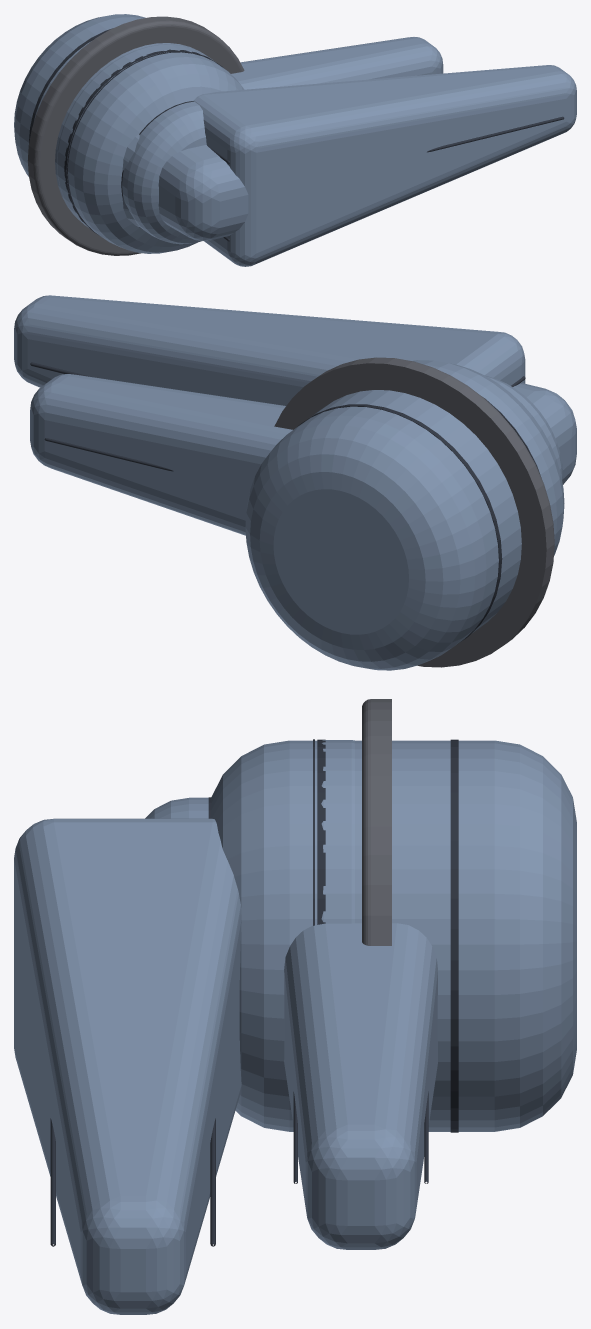
Rendered from arm.glb.
3 views of the same model, one above another, from view 1: azimuth 30°, elevation 25°; view 2: azimuth 150°, elevation 25°; view 3: azimuth 270°, elevation 25° (orthographic). The views are drawn at different scales.
Parts seen in each view (by area): view 1: b3, b1, b2, b4; view 2: b3, b4, b1, b2; view 3: b3, b4, b1, b2.
Boxes of the visible parts, bbox=[...] form: b3: bbox=[14, 14, 576, 266]; b1: bbox=[27, 16, 244, 255]; b2: bbox=[121, 101, 248, 244]; b4: bbox=[231, 37, 443, 89]; b3: bbox=[14, 295, 564, 670]; b4: bbox=[30, 374, 292, 535]; b1: bbox=[274, 357, 554, 667]; b2: bbox=[485, 375, 576, 484]; b3: bbox=[14, 739, 576, 1314]; b4: bbox=[284, 923, 437, 1249]; b1: bbox=[313, 699, 391, 945]; b2: bbox=[145, 797, 211, 818].
Bounding box in the file's own units: 0.3973 × 0.1834 × 0.2175.
